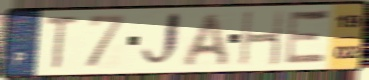7: (85, 13, 128, 71)
A: (179, 11, 232, 68)
E: (282, 8, 332, 67)
H: (238, 9, 286, 68)
J: (138, 10, 184, 72)
T: (43, 14, 81, 72)
